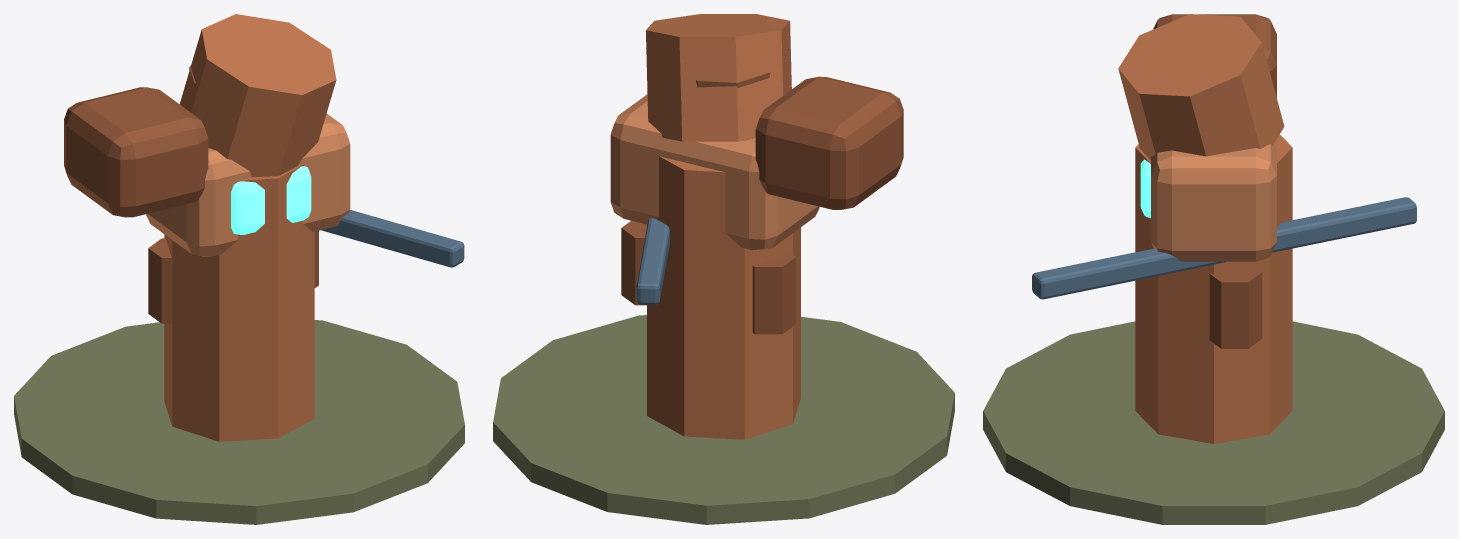
The model's file is sod_shadow_commando.glb.
The picture shows the model from 3 angles, left to right: view 1: azimuth 30°, elevation 25°; view 2: azimuth 150°, elevation 25°; view 3: azimuth 270°, elevation 25°; orthographic projection. The views are drawn at different scales.
Visible parts, largest first — view 1: sod_shadow_commando; view 2: sod_shadow_commando; view 3: sod_shadow_commando.
Part boxes in pixels (x1=…): sod_shadow_commando: x1=14, y1=14, x2=464, y2=524; sod_shadow_commando: x1=493, y1=14, x2=954, y2=524; sod_shadow_commando: x1=983, y1=14, x2=1444, y2=524.
Size of the model in its own units: 0.429 by 0.4217 by 0.44.
